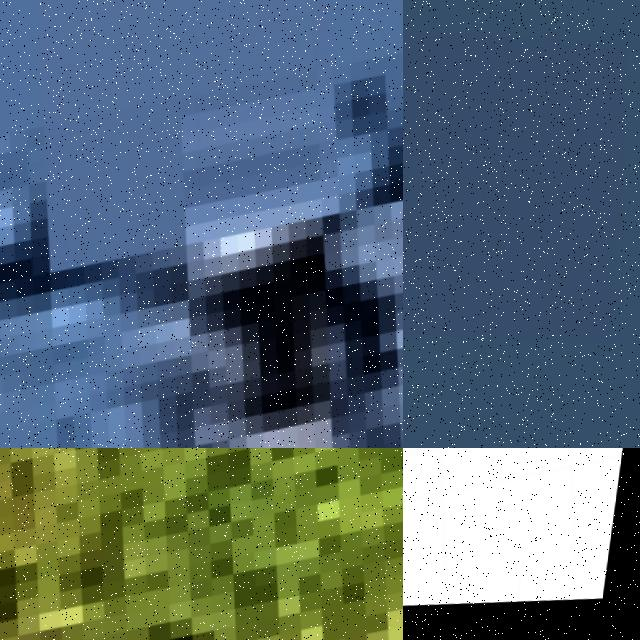0: (0, 0, 403, 448)
drone: (0, 448, 403, 640), (403, 448, 640, 640)
